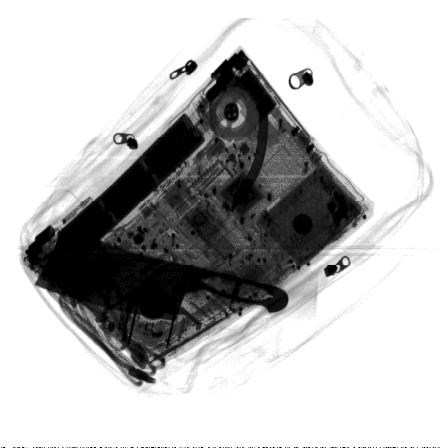Knife: (45, 229, 289, 323)
